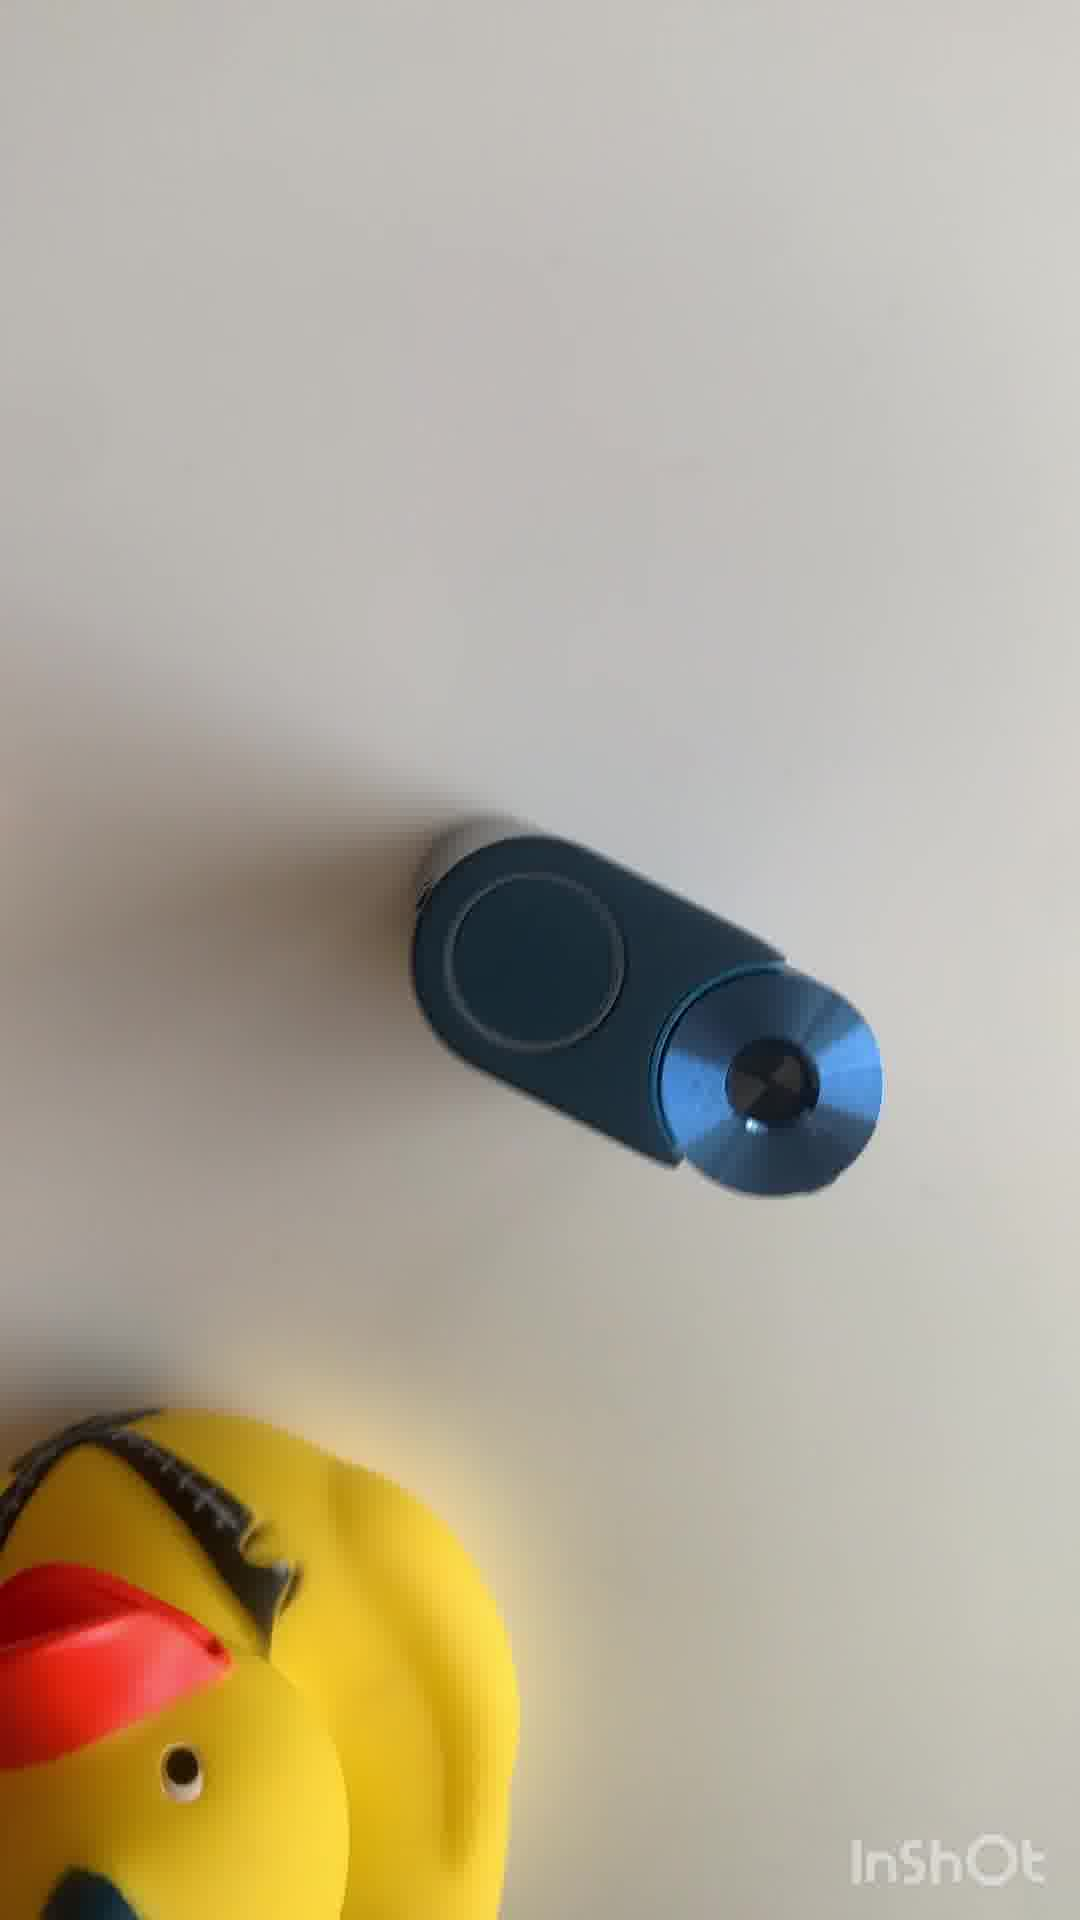duck: (1, 1398, 526, 1920)
glo: (405, 811, 891, 1203)
